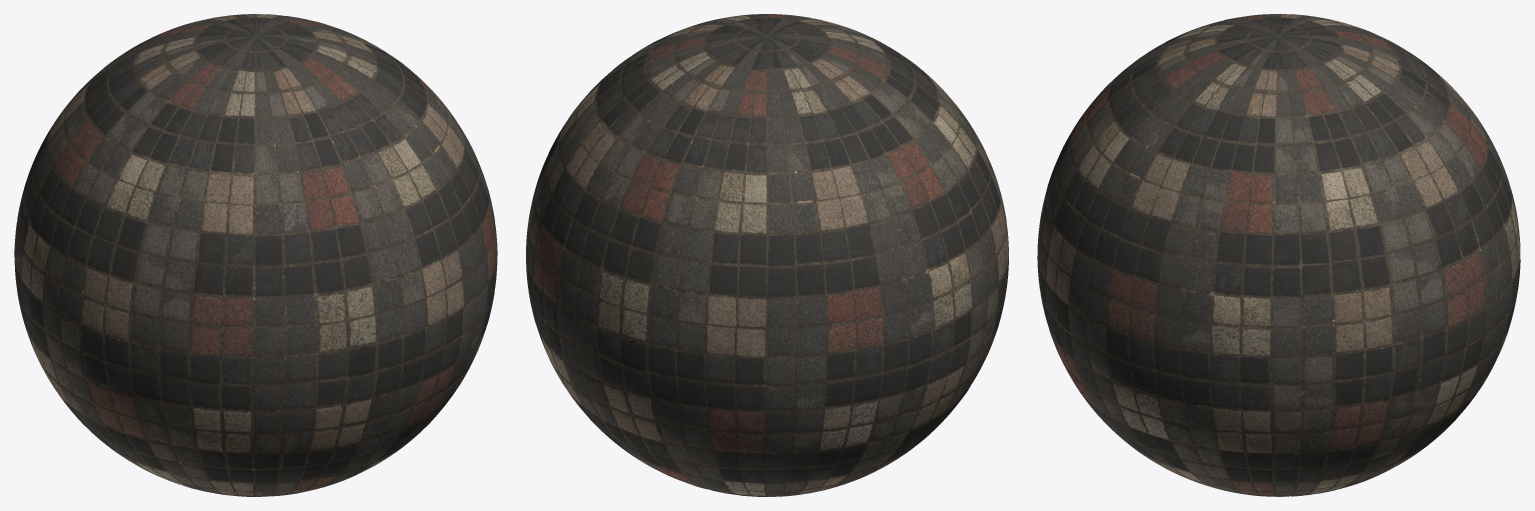
Rendered from square_tiles_02_1k.gltf.
3 renders of one model, left to right at view 1: azimuth 30°, elevation 25°; view 2: azimuth 150°, elevation 25°; view 3: azimuth 270°, elevation 25°, orthographic.
Visible parts, largest first — view 1: sphere_gltf; view 2: sphere_gltf; view 3: sphere_gltf.
Part boxes in pixels (x1,y1,x2,y2): sphere_gltf: (14, 14, 497, 496); sphere_gltf: (526, 14, 1008, 496); sphere_gltf: (1037, 14, 1520, 496).
Size of the model in its own units: 2.4 by 2.4 by 2.4.
Materials: 1 (1 with a texture image).
